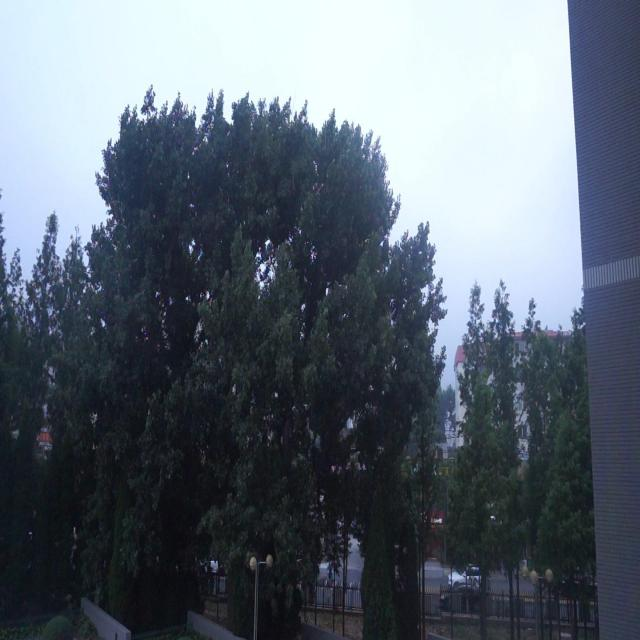UAV: (313, 182, 325, 195)
